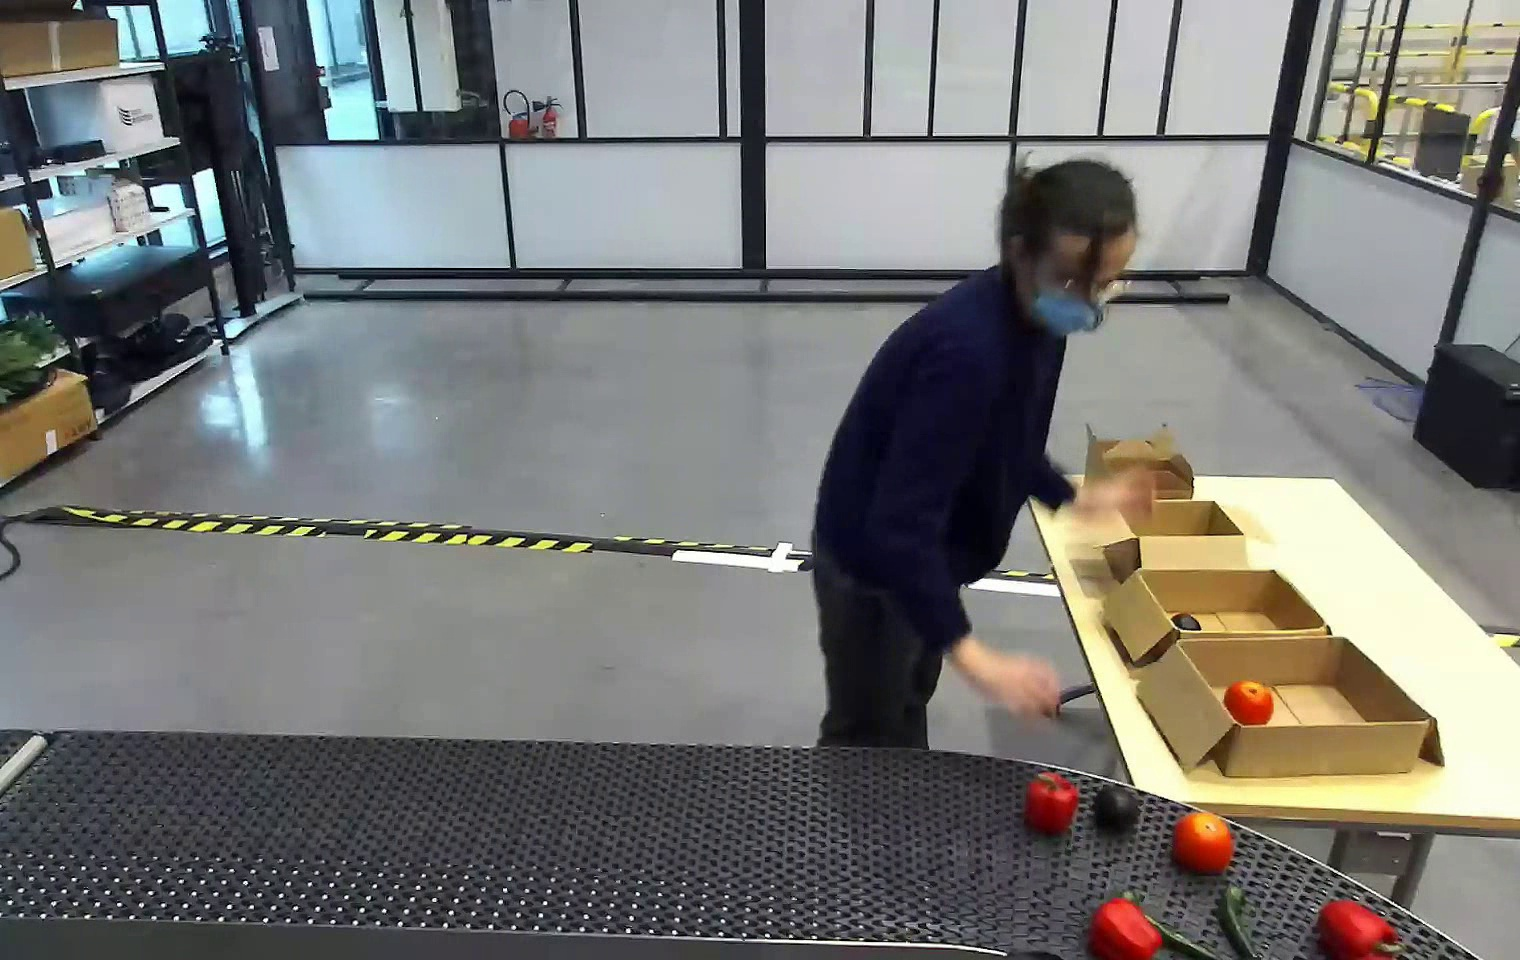Main droite: (1059, 549, 1129, 611)
